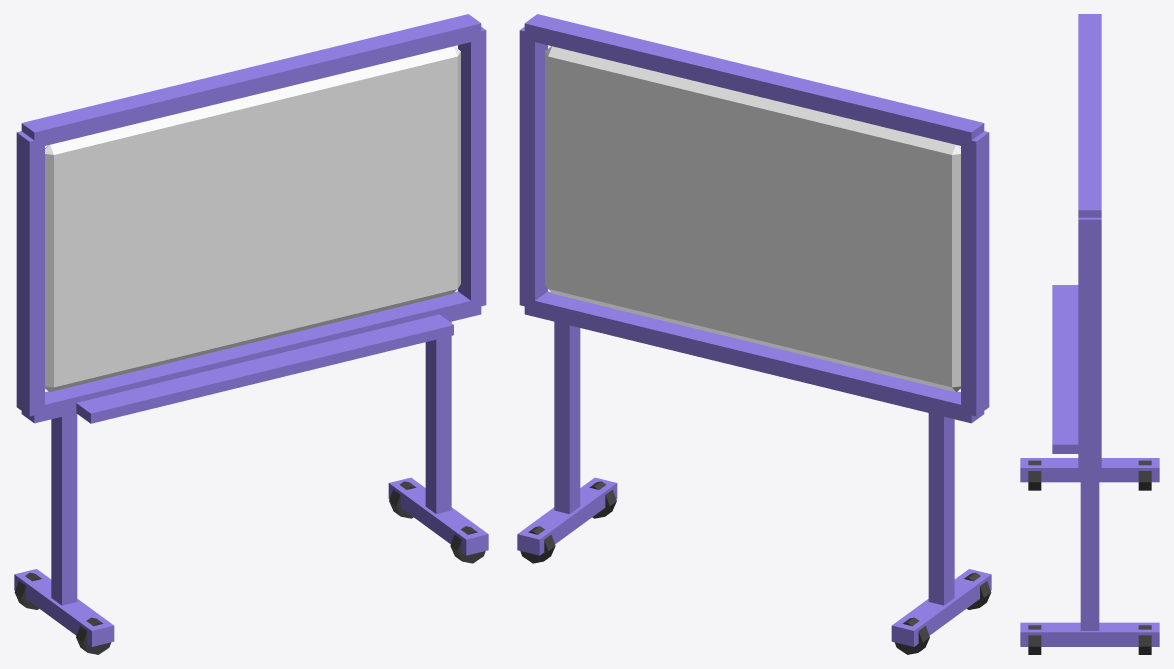
3 views of the same model, side by side, from view 1: azimuth 30°, elevation 25°; view 2: azimuth 150°, elevation 25°; view 3: azimuth 270°, elevation 25° (orthographic). The views are drawn at different scales.
Visible parts, largest first — view 1: Writing surface, Frame rail.001, Marker ledge, Frame rail, Frame upright, Frame upright.001, Stand, Stand.001, Caster beam.001, Caster beam; view 2: Writing surface, Frame rail.001, Frame rail, Frame upright, Frame upright.001, Stand, Stand.001, Caster beam.001, Caster beam; view 3: Frame upright.001, Frame rail.001, Marker ledge, Stand.001, Caster beam.001, Caster beam, Wheel, Wheel.001, Wheel.002, Wheel.003.
Boxes of the visible parts, box(x1,y1,x2,y2) form: Writing surface: box(45, 46, 460, 391); Frame rail.001: box(21, 14, 481, 148); Marker ledge: box(76, 314, 453, 423); Frame rail: box(21, 291, 481, 423); Frame upright: box(16, 131, 44, 416); Frame upright.001: box(458, 27, 486, 308); Stand: box(51, 413, 77, 605); Stand.001: box(425, 321, 451, 514); Caster beam.001: box(388, 477, 488, 555); Caster beam: box(14, 569, 114, 646); Writing surface: box(545, 46, 960, 391); Frame rail.001: box(524, 14, 984, 145); Frame rail: box(524, 291, 984, 423); Frame upright: box(961, 131, 989, 416); Frame upright.001: box(519, 27, 547, 306); Stand: box(928, 413, 954, 605); Stand.001: box(554, 321, 580, 514); Caster beam.001: box(517, 477, 617, 555); Caster beam: box(891, 569, 991, 646); Frame upright.001: box(1078, 217, 1101, 467); Frame rail.001: box(1078, 14, 1101, 217); Marker ledge: box(1052, 285, 1078, 453); Stand.001: box(1080, 472, 1099, 630); Caster beam.001: box(1020, 622, 1159, 646); Caster beam: box(1020, 458, 1159, 482); Wheel: box(1028, 460, 1041, 490); Wheel.001: box(1138, 460, 1151, 490); Wheel.002: box(1028, 625, 1041, 654); Wheel.003: box(1138, 625, 1151, 654).
Size of the model in its own units: 163 by 175 by 48.
